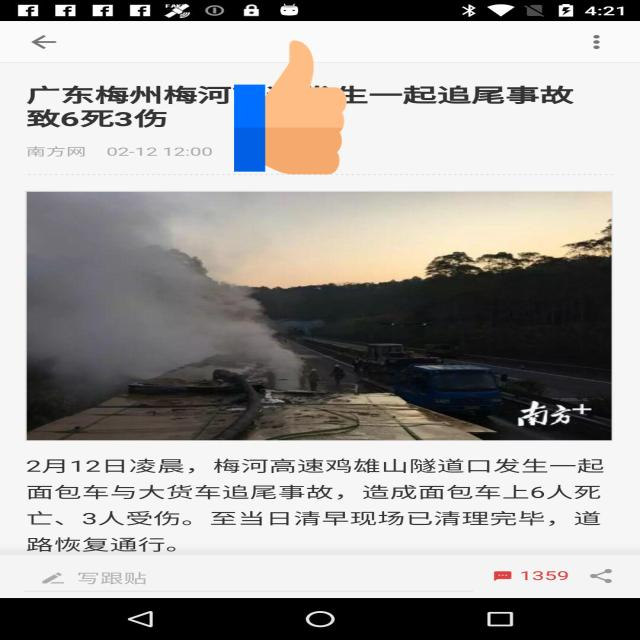privacy zuckering: (234, 37, 347, 178)
